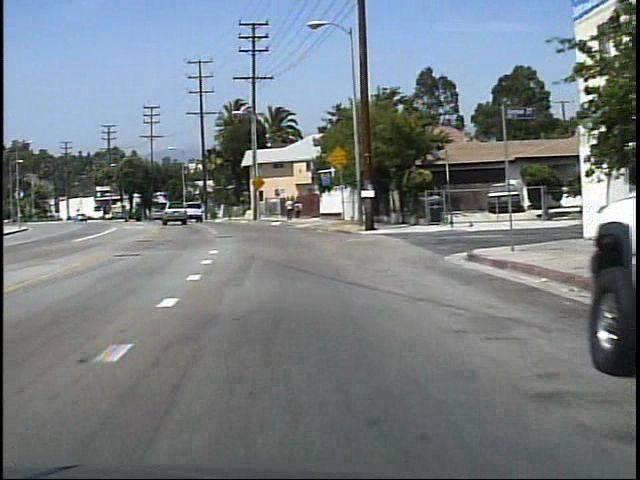person: (283, 196, 294, 222), (294, 199, 304, 221)
